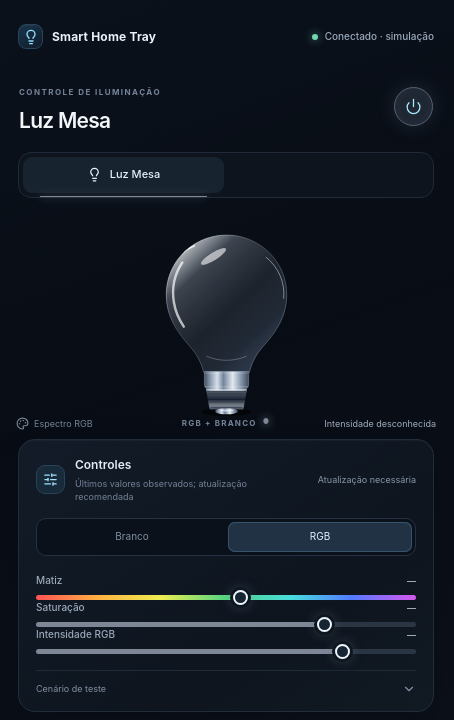
Smart Home Tray app › keeps independent observed controls usable and ignores unknown unsupported scenes
Expected: the heading "Luz Mesa" is shown, [19,108,110,133]
Expected: the message reads "Atualização necessária", [318,474,416,485]
Click the button "Branco" at (132, 536), box [40,522,224,552]
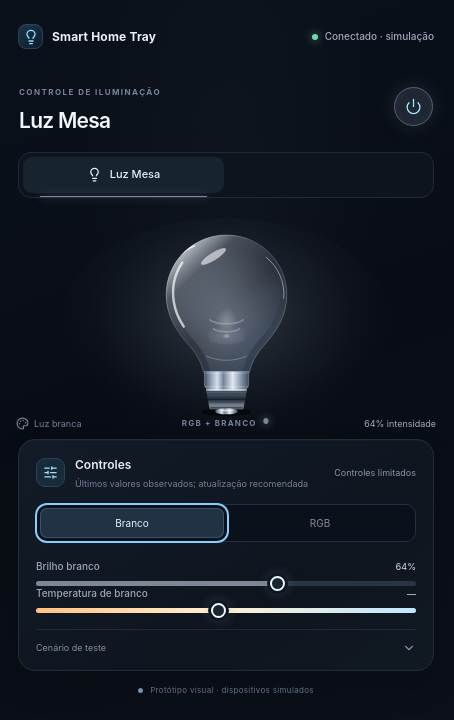
Expected: the slider labelled "Brilho branco" is enabled, [36,581,416,586]
Expected: the slider labelled "Temperatura de branco" is disabled, [36,608,416,613]
Expected: the message reads "Controles limitados", [334,467,416,478]
